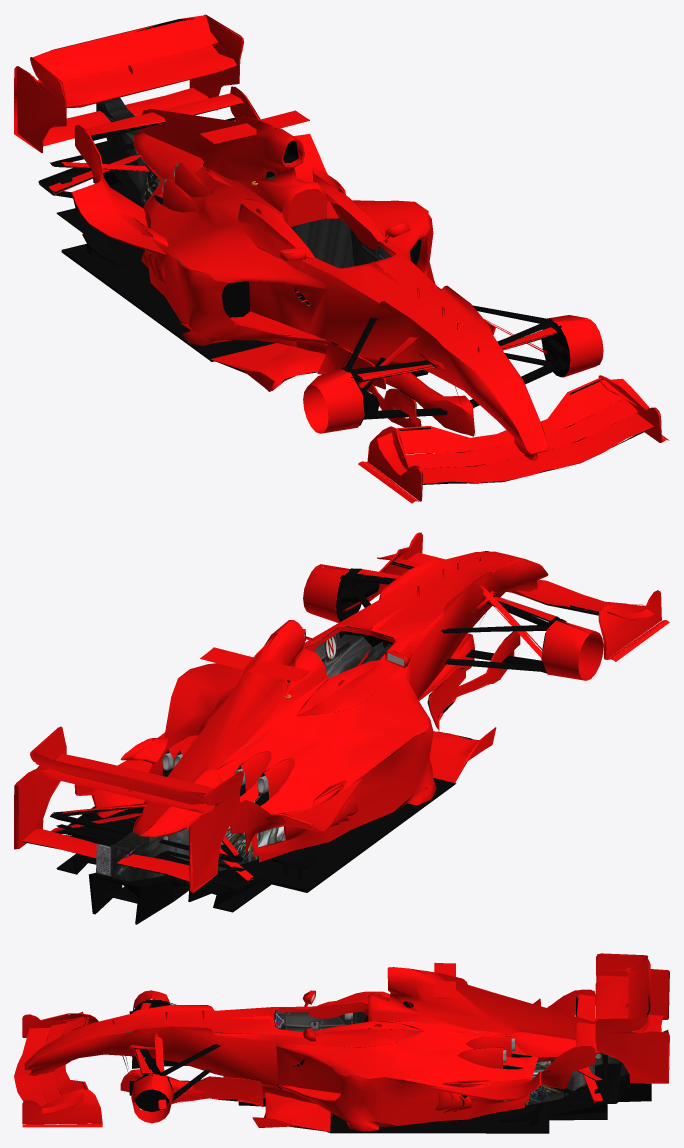
File: car_body.gltf
The picture shows the model from 3 angles, top to bottom: view 1: azimuth 30°, elevation 25°; view 2: azimuth 150°, elevation 25°; view 3: azimuth 270°, elevation 25°; orthographic projection. The views are drawn at different scales.
Visible parts, largest first — view 1: car_mesh; view 2: car_mesh; view 3: car_mesh.
Boxes of the visible parts, x1=… form: car_mesh: x1=14, y1=14, x2=669, y2=503; car_mesh: x1=14, y1=532, x2=669, y2=924; car_mesh: x1=14, y1=953, x2=669, y2=1133.
Bounding box in the file's own units: 1.56 × 0.9258 × 4.35.
4 materials, 2 textured.
